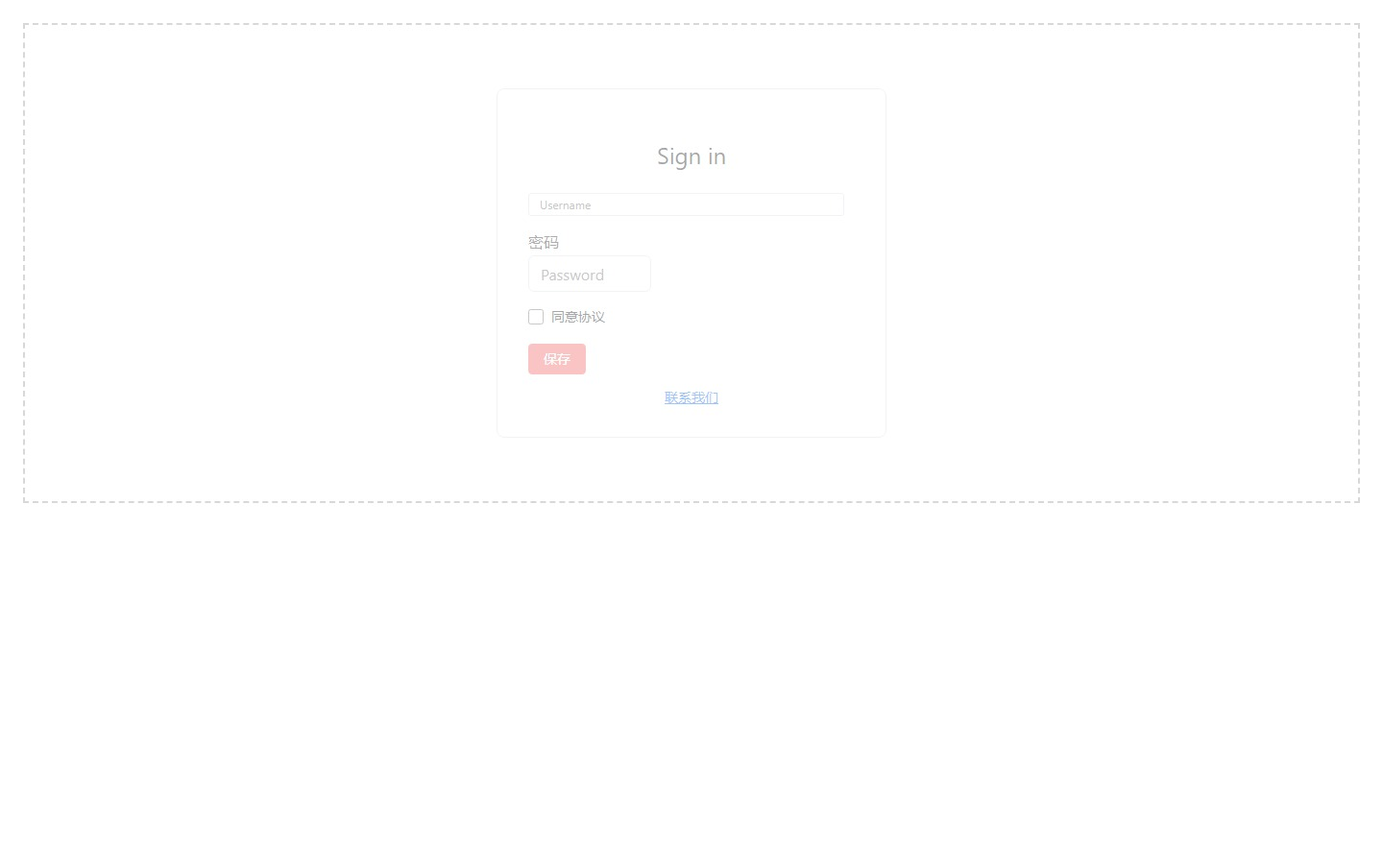button: (528, 343, 586, 374)
checkbox: (528, 309, 544, 324)
icon: (551, 307, 605, 326)
input: (528, 193, 844, 216), (528, 256, 651, 292)
link: (665, 388, 718, 406)
modal: (23, 23, 1360, 503)
radio: (528, 307, 605, 326)
